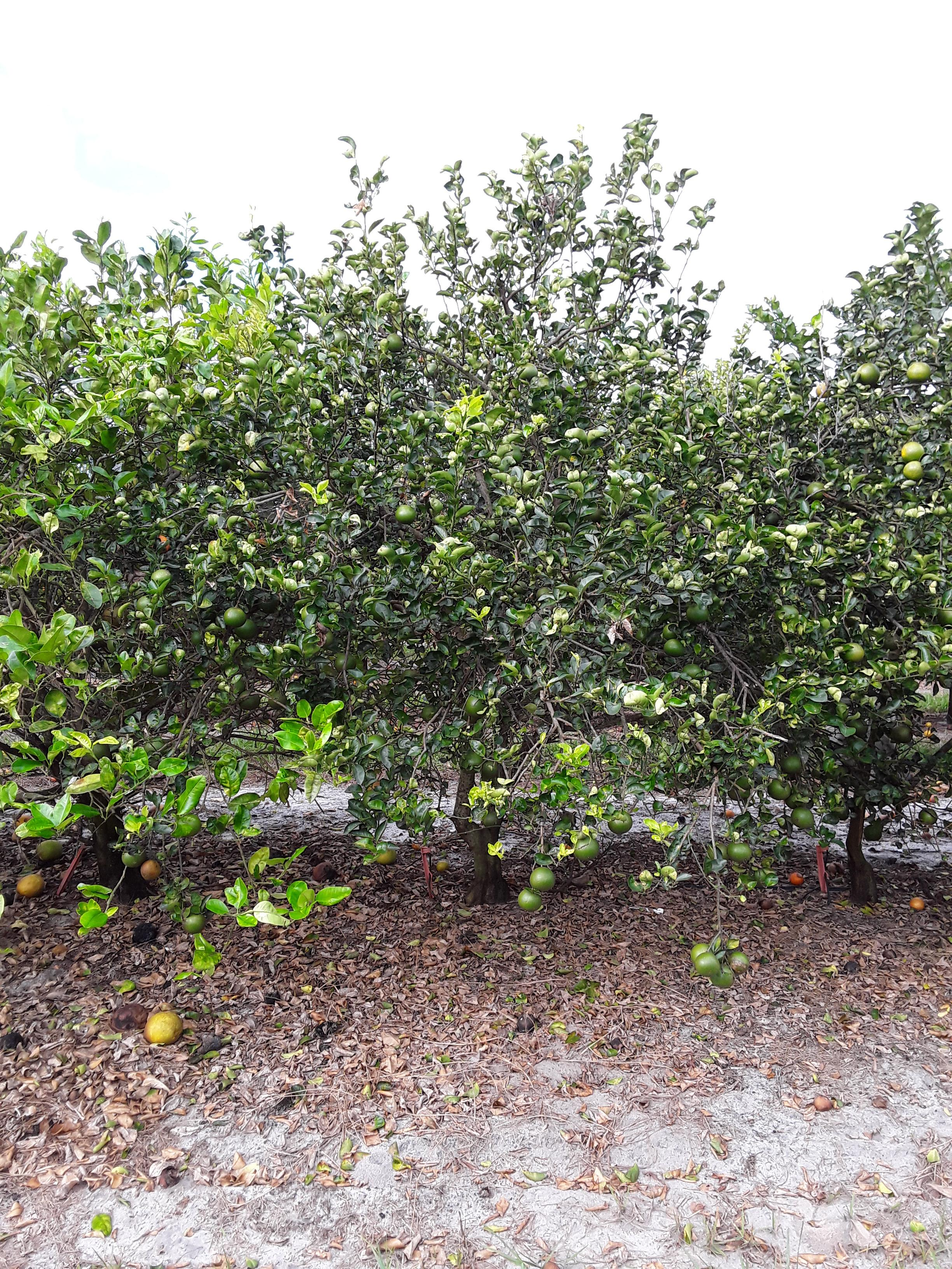fruit_on_ground: (572, 829, 602, 863), (80, 738, 113, 767), (176, 910, 211, 936), (607, 805, 635, 837), (530, 864, 559, 893), (686, 938, 717, 965), (251, 591, 283, 617), (709, 965, 738, 993), (837, 640, 870, 664), (693, 951, 721, 979), (515, 887, 545, 913), (721, 781, 752, 806), (173, 812, 201, 839), (789, 805, 818, 831), (724, 949, 752, 975), (222, 668, 247, 697), (729, 839, 758, 864), (467, 690, 491, 720), (886, 722, 916, 746), (781, 750, 805, 780), (395, 501, 422, 527), (120, 840, 146, 867), (102, 604, 131, 628), (360, 787, 389, 811), (854, 362, 882, 386), (363, 731, 392, 754), (663, 634, 688, 660), (847, 716, 874, 740), (904, 361, 933, 383), (143, 735, 169, 759), (459, 748, 483, 774), (767, 775, 793, 799), (234, 616, 261, 639), (899, 439, 927, 461), (481, 758, 503, 786), (704, 840, 728, 865), (903, 461, 930, 483), (246, 457, 274, 478), (754, 866, 778, 890), (133, 592, 158, 615), (659, 619, 684, 642), (139, 858, 164, 881), (384, 330, 406, 356), (223, 605, 246, 629), (149, 655, 173, 678), (632, 625, 657, 647), (685, 601, 711, 622), (315, 625, 337, 648), (534, 585, 559, 605), (264, 689, 289, 709), (727, 773, 756, 790), (150, 569, 177, 587), (777, 603, 800, 624), (418, 702, 441, 723), (811, 380, 835, 400), (935, 606, 952, 634), (400, 668, 425, 687), (516, 361, 541, 380), (238, 689, 260, 710), (481, 809, 503, 830), (863, 822, 885, 843), (335, 651, 359, 670), (681, 662, 704, 681), (331, 326, 350, 348), (920, 805, 938, 828), (806, 481, 827, 500), (364, 402, 386, 420), (366, 776, 386, 795), (588, 509, 610, 525), (424, 361, 443, 379), (187, 629, 206, 646), (763, 512, 781, 529), (621, 517, 638, 533), (833, 806, 849, 822), (513, 578, 528, 595)
fruit_on_tree: (142, 1008, 188, 1052), (109, 998, 157, 1035), (800, 1089, 844, 1120), (513, 1009, 543, 1042), (15, 870, 45, 902), (131, 918, 160, 947), (34, 837, 66, 862), (903, 889, 931, 914), (374, 841, 400, 867), (311, 861, 339, 884), (12, 812, 44, 831), (0, 1031, 26, 1052), (779, 869, 807, 888), (143, 803, 177, 816), (826, 858, 847, 877), (844, 956, 861, 977), (436, 858, 454, 875), (756, 896, 775, 910), (723, 808, 738, 823)
